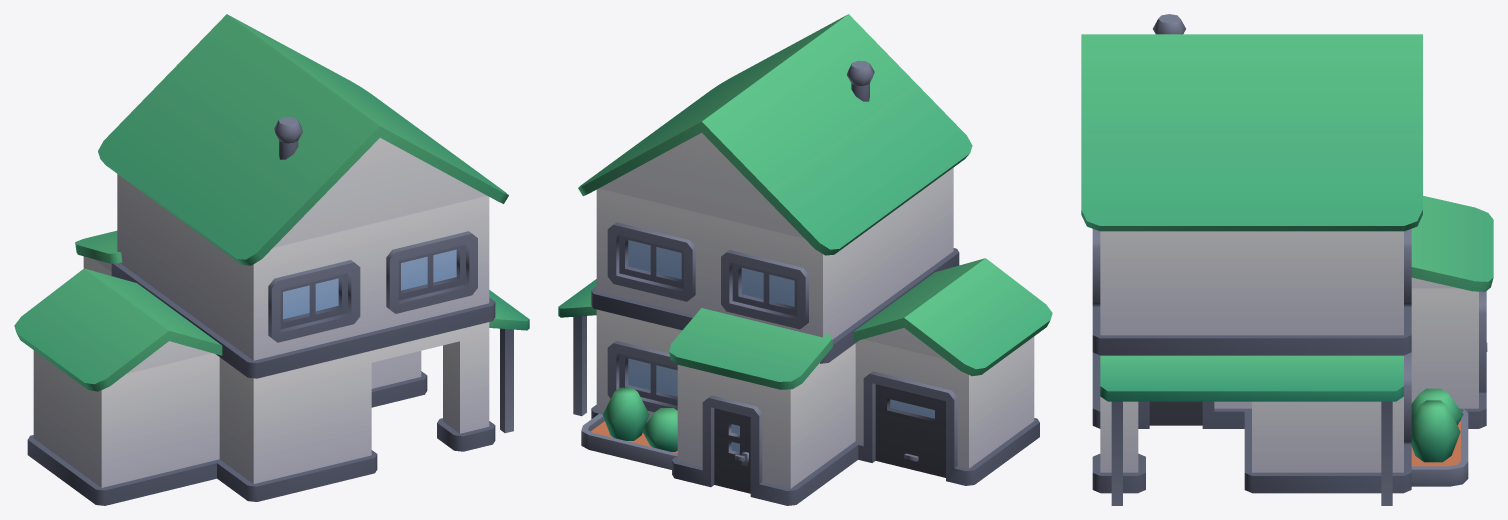
File: kenney-city-suburban-building-type-s.glb
The picture shows the model from 3 angles, left to right: view 1: azimuth 30°, elevation 25°; view 2: azimuth 150°, elevation 25°; view 3: azimuth 270°, elevation 25°; orthographic projection. The views are drawn at different scales.
Parts seen in each view (by area): view 1: building-type-s; view 2: building-type-s; view 3: building-type-s.
Part boxes in pixels (x1=…): building-type-s: x1=14, y1=14, x2=529, y2=505; building-type-s: x1=558, y1=14, x2=1052, y2=505; building-type-s: x1=1081, y1=14, x2=1493, y2=505.
Size of the model in its own units: 1.41 by 1.14 by 1.09.
Materials: 1 (1 with a texture image).
